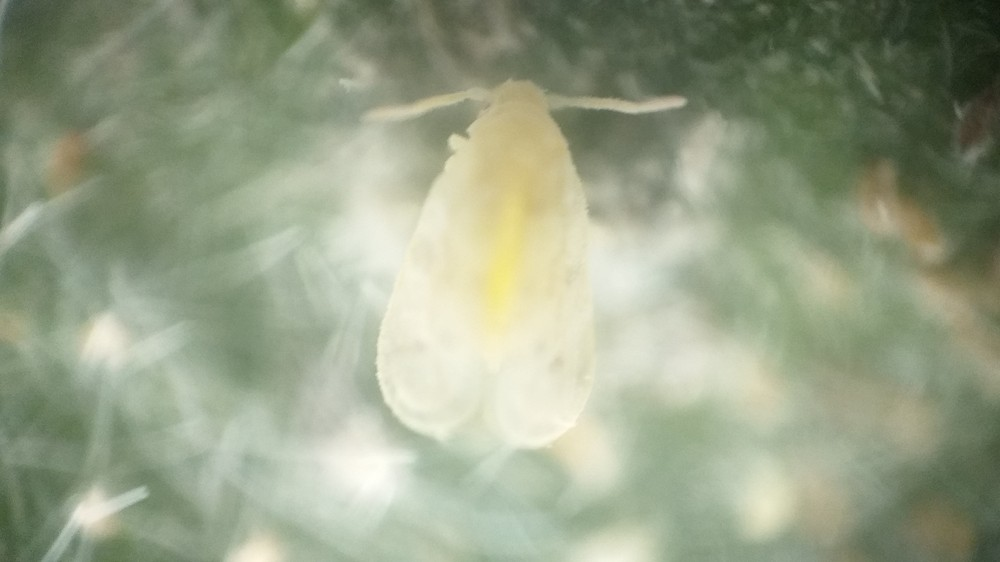Mosca Blanca: (338, 70, 698, 472)
